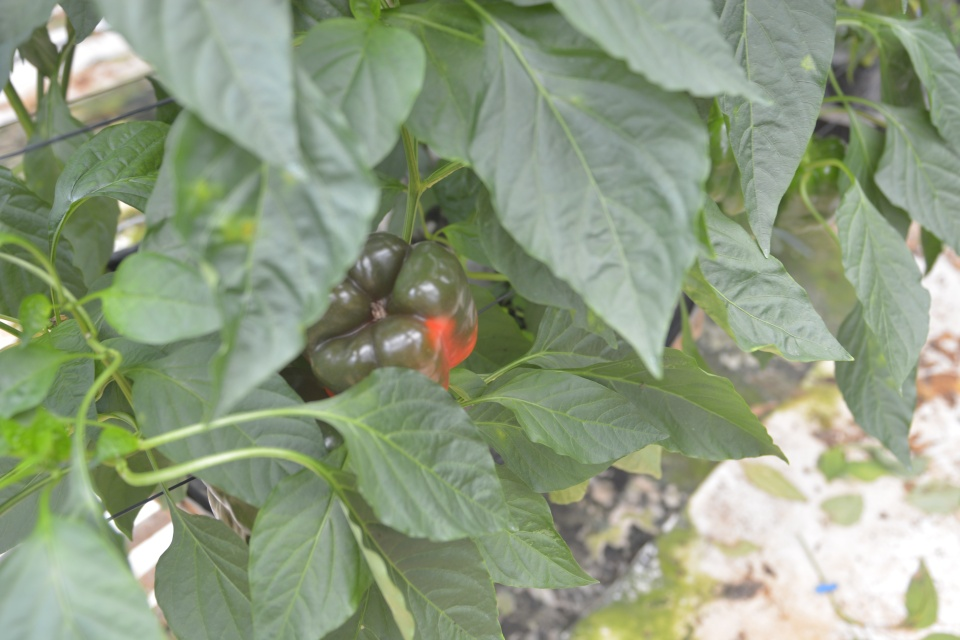fruit: (301, 227, 480, 401)
